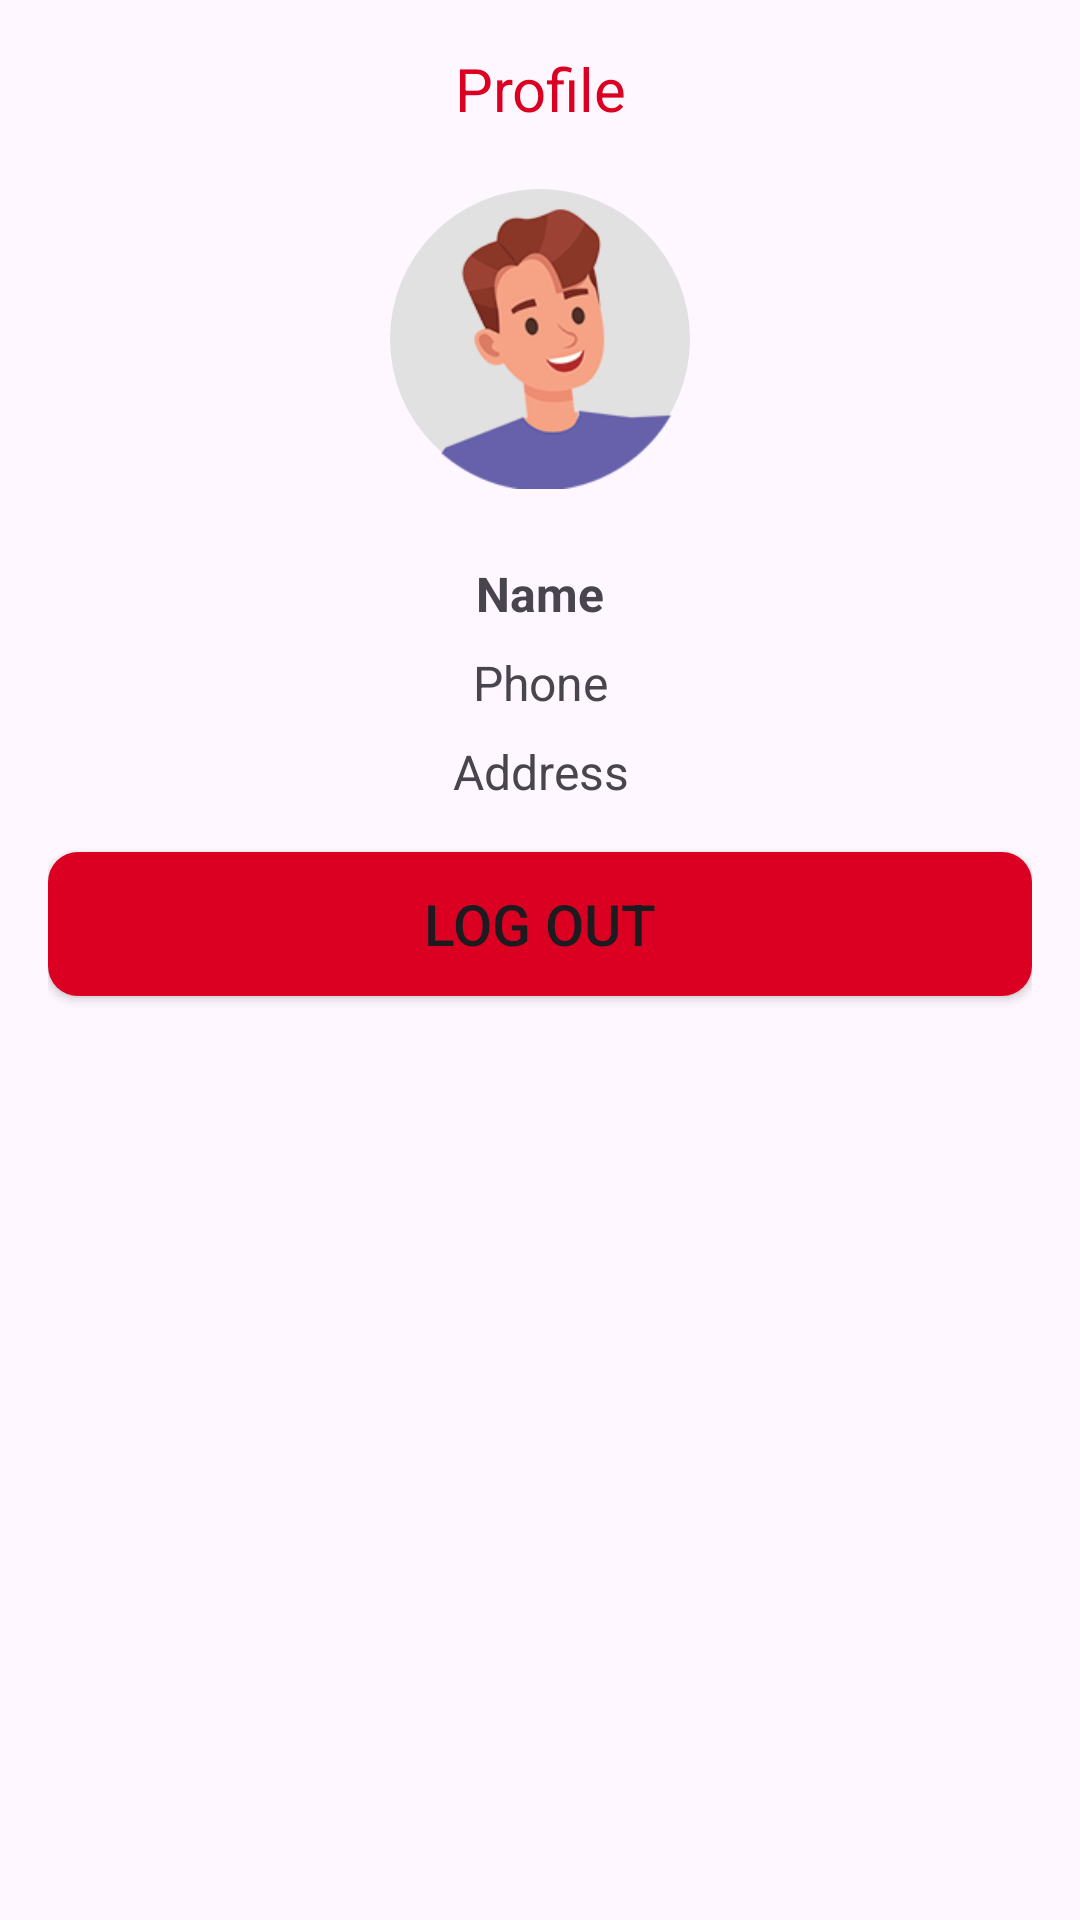

Icons on this 1080 x 1920 Android screen, each with the point to tap as point (x, y):
boy: point (540, 339)
